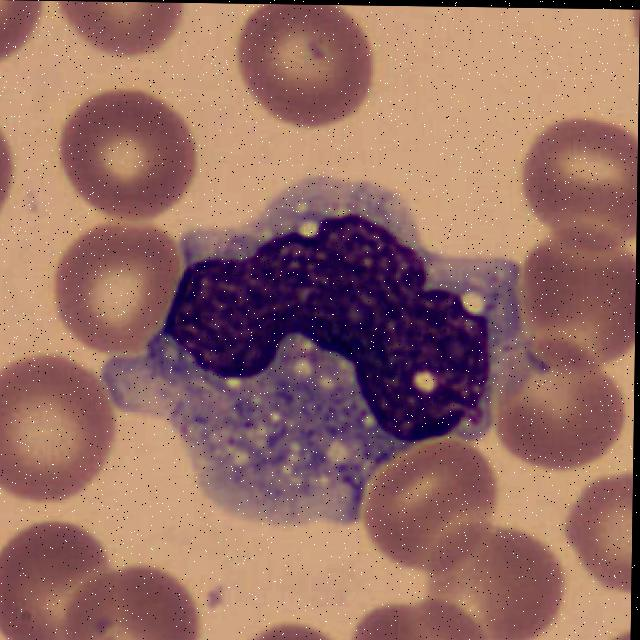monocyte: (99, 167, 522, 510)
rbc: (222, 3, 408, 138), (52, 202, 183, 365), (0, 343, 124, 511), (508, 219, 637, 379), (486, 342, 635, 480), (61, 81, 202, 219), (362, 433, 499, 567), (521, 98, 639, 250), (421, 519, 562, 640), (0, 515, 119, 640), (60, 554, 214, 640), (559, 463, 633, 592), (55, 1, 185, 56), (350, 590, 486, 640), (225, 610, 341, 640), (0, 0, 45, 71)
